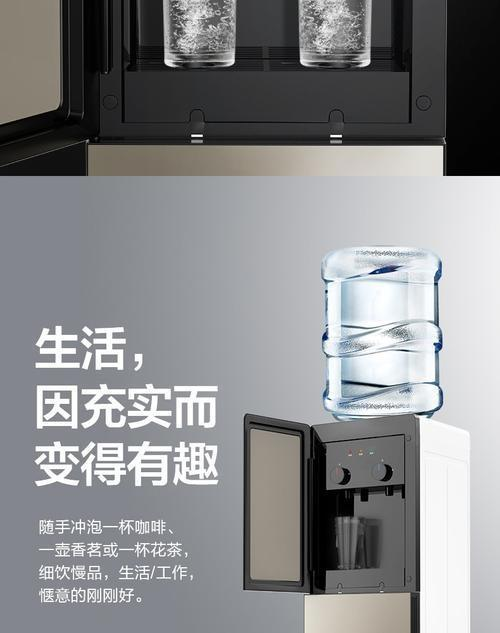Dispenser: (302, 246, 470, 632)
